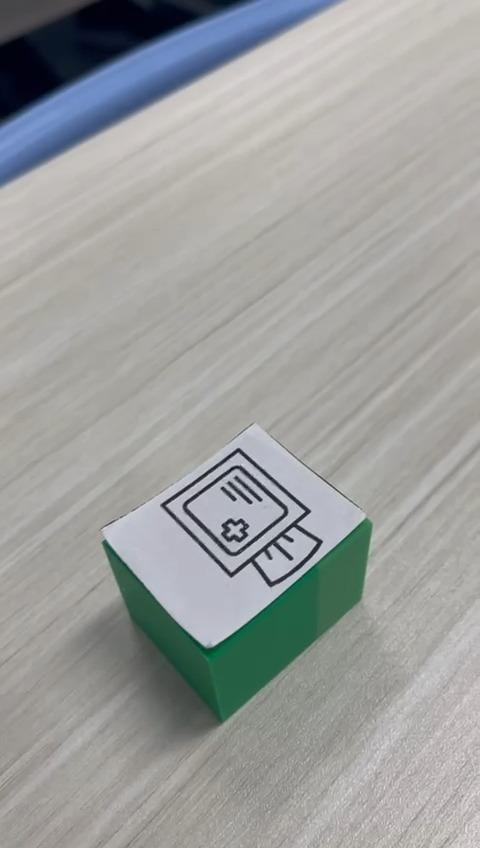Gauze: (99, 420, 373, 723)
